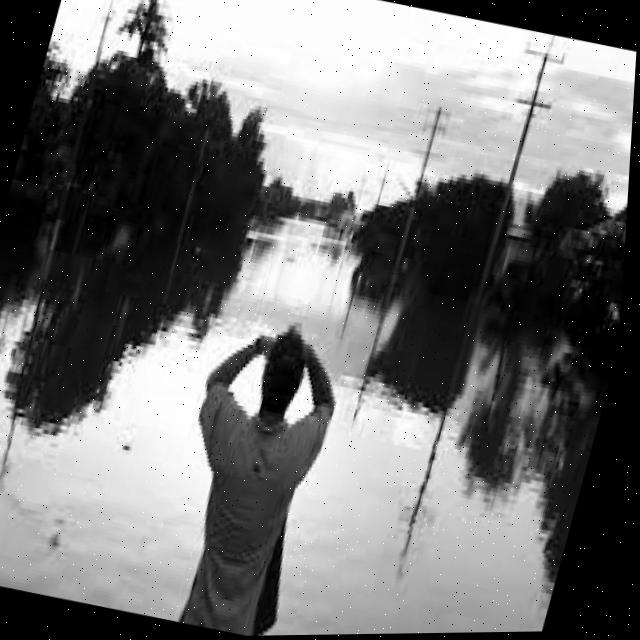civilian: (125, 302, 390, 638)
